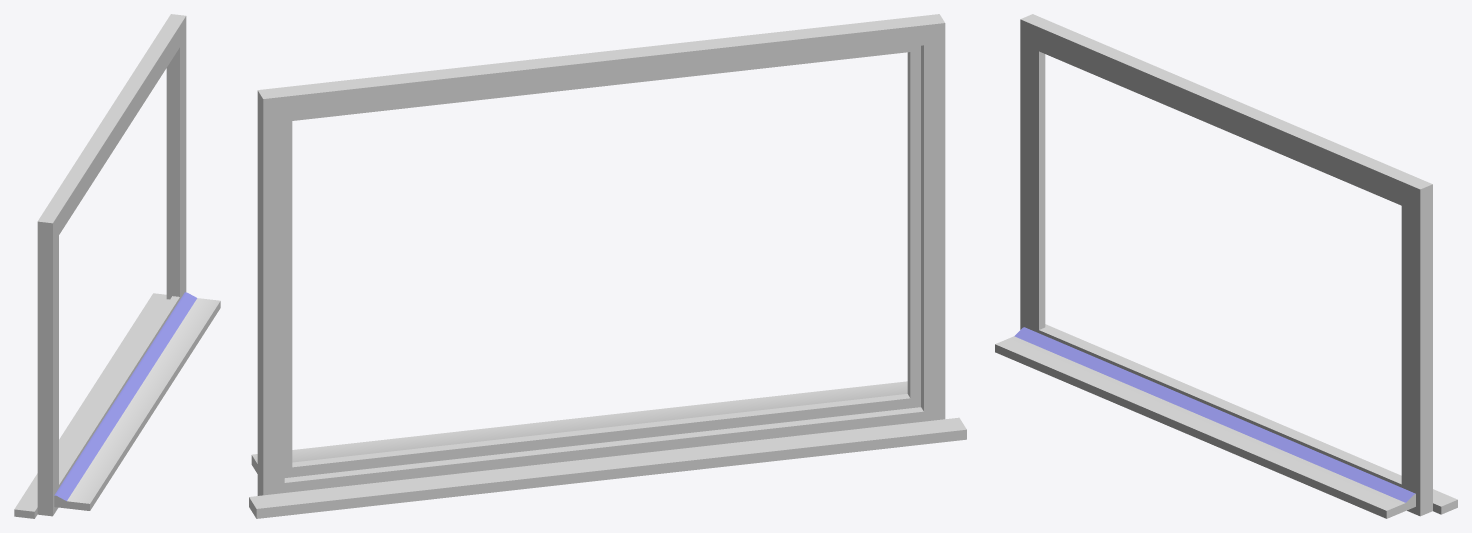
Rendered from window.fbx.
3 views of the same model, side by side, from view 1: azimuth 30°, elevation 25°; view 2: azimuth 150°, elevation 25°; view 3: azimuth 270°, elevation 25° (orthographic). The views are drawn at different scales.
Parts seen in each view (by area): view 1: Window; view 2: Window; view 3: Window.
Boxes of the visible parts, bbox=[...] form: Window: bbox=[14, 14, 220, 518]; Window: bbox=[249, 14, 966, 518]; Window: bbox=[995, 14, 1457, 518].
Bounding box in the file's own units: 95.08 × 73.71 × 94.59.
